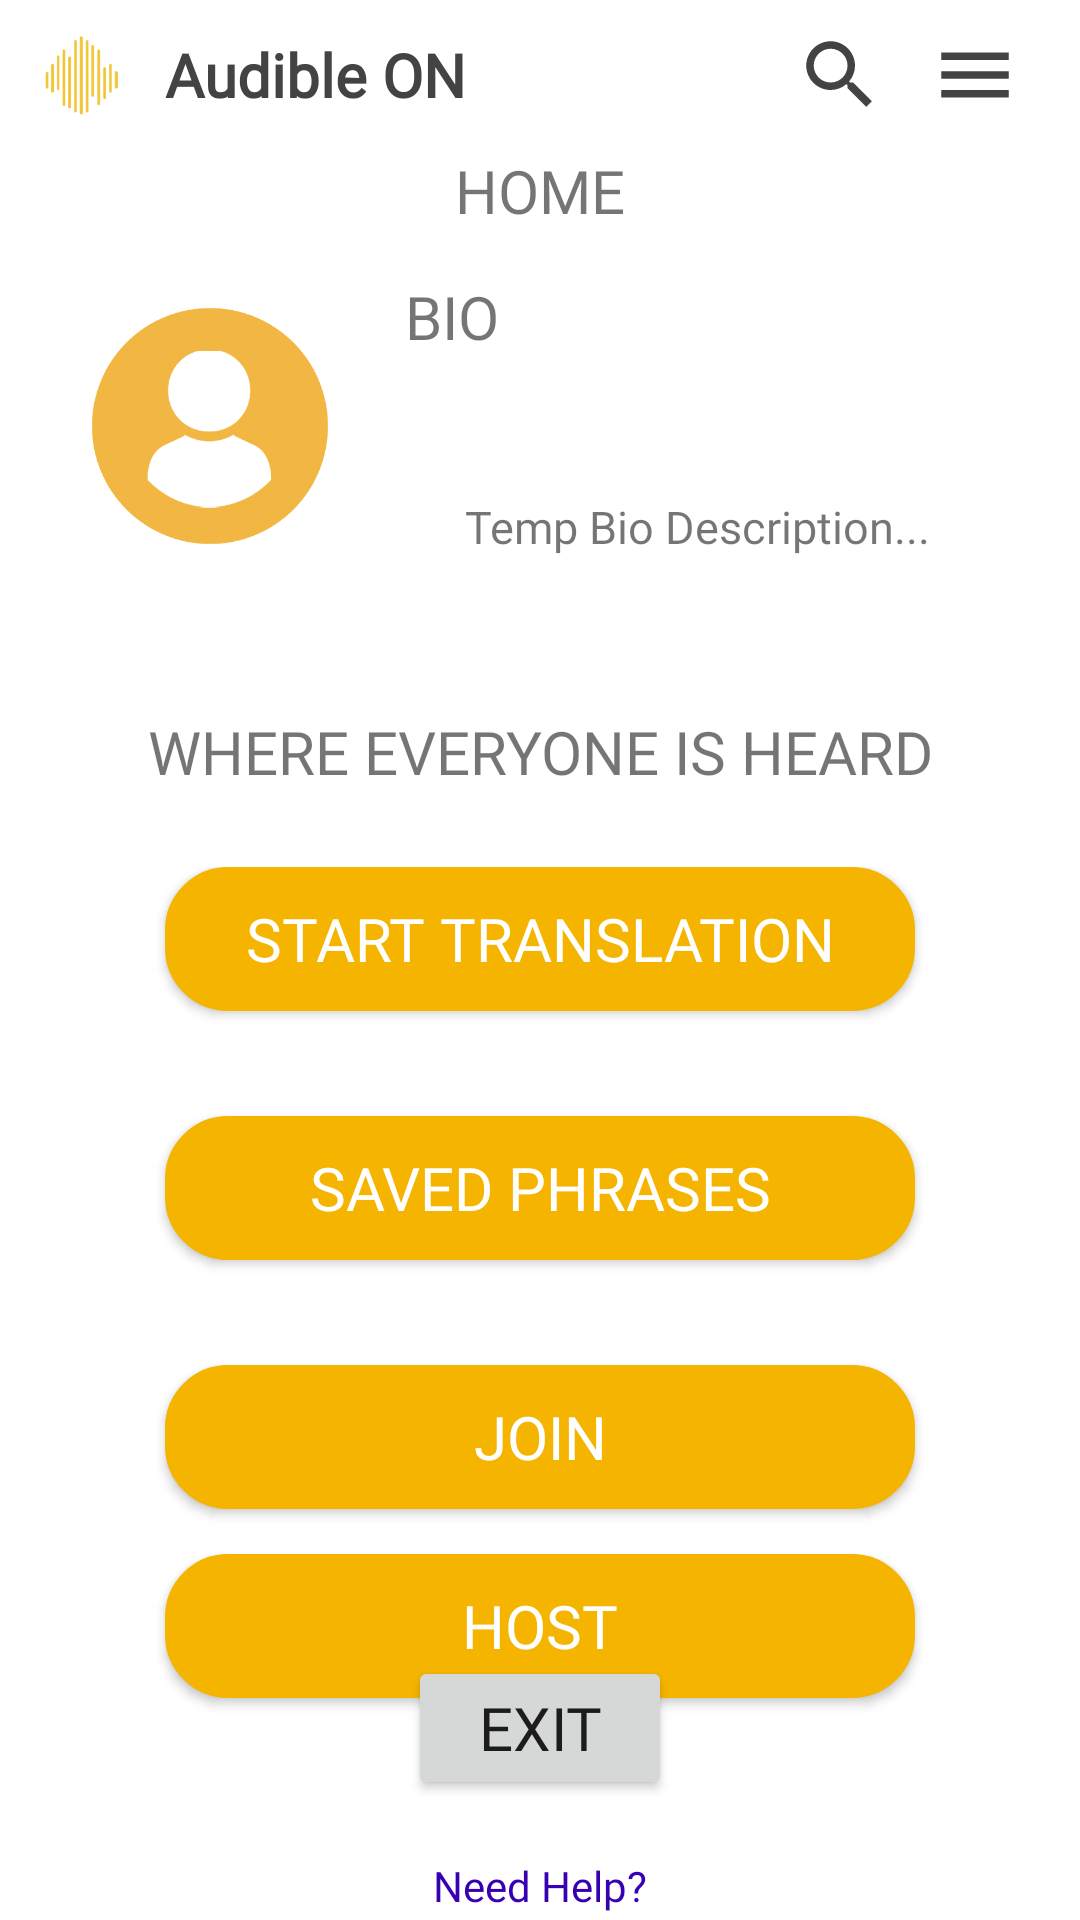

Where to tap for icons on this 1080x1920 app screen, as (x=x, y=y):
menu: (x=975, y=75)
profile: (x=210, y=426)
search: (x=839, y=74)
